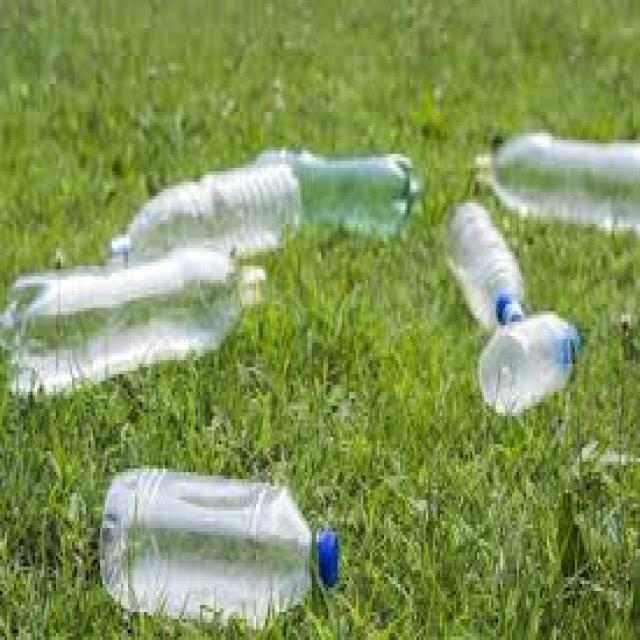plastic_bottle: (0, 248, 268, 404), (98, 467, 338, 626), (103, 163, 300, 284), (473, 133, 640, 234), (253, 146, 424, 238), (474, 308, 584, 418), (441, 199, 528, 333)
